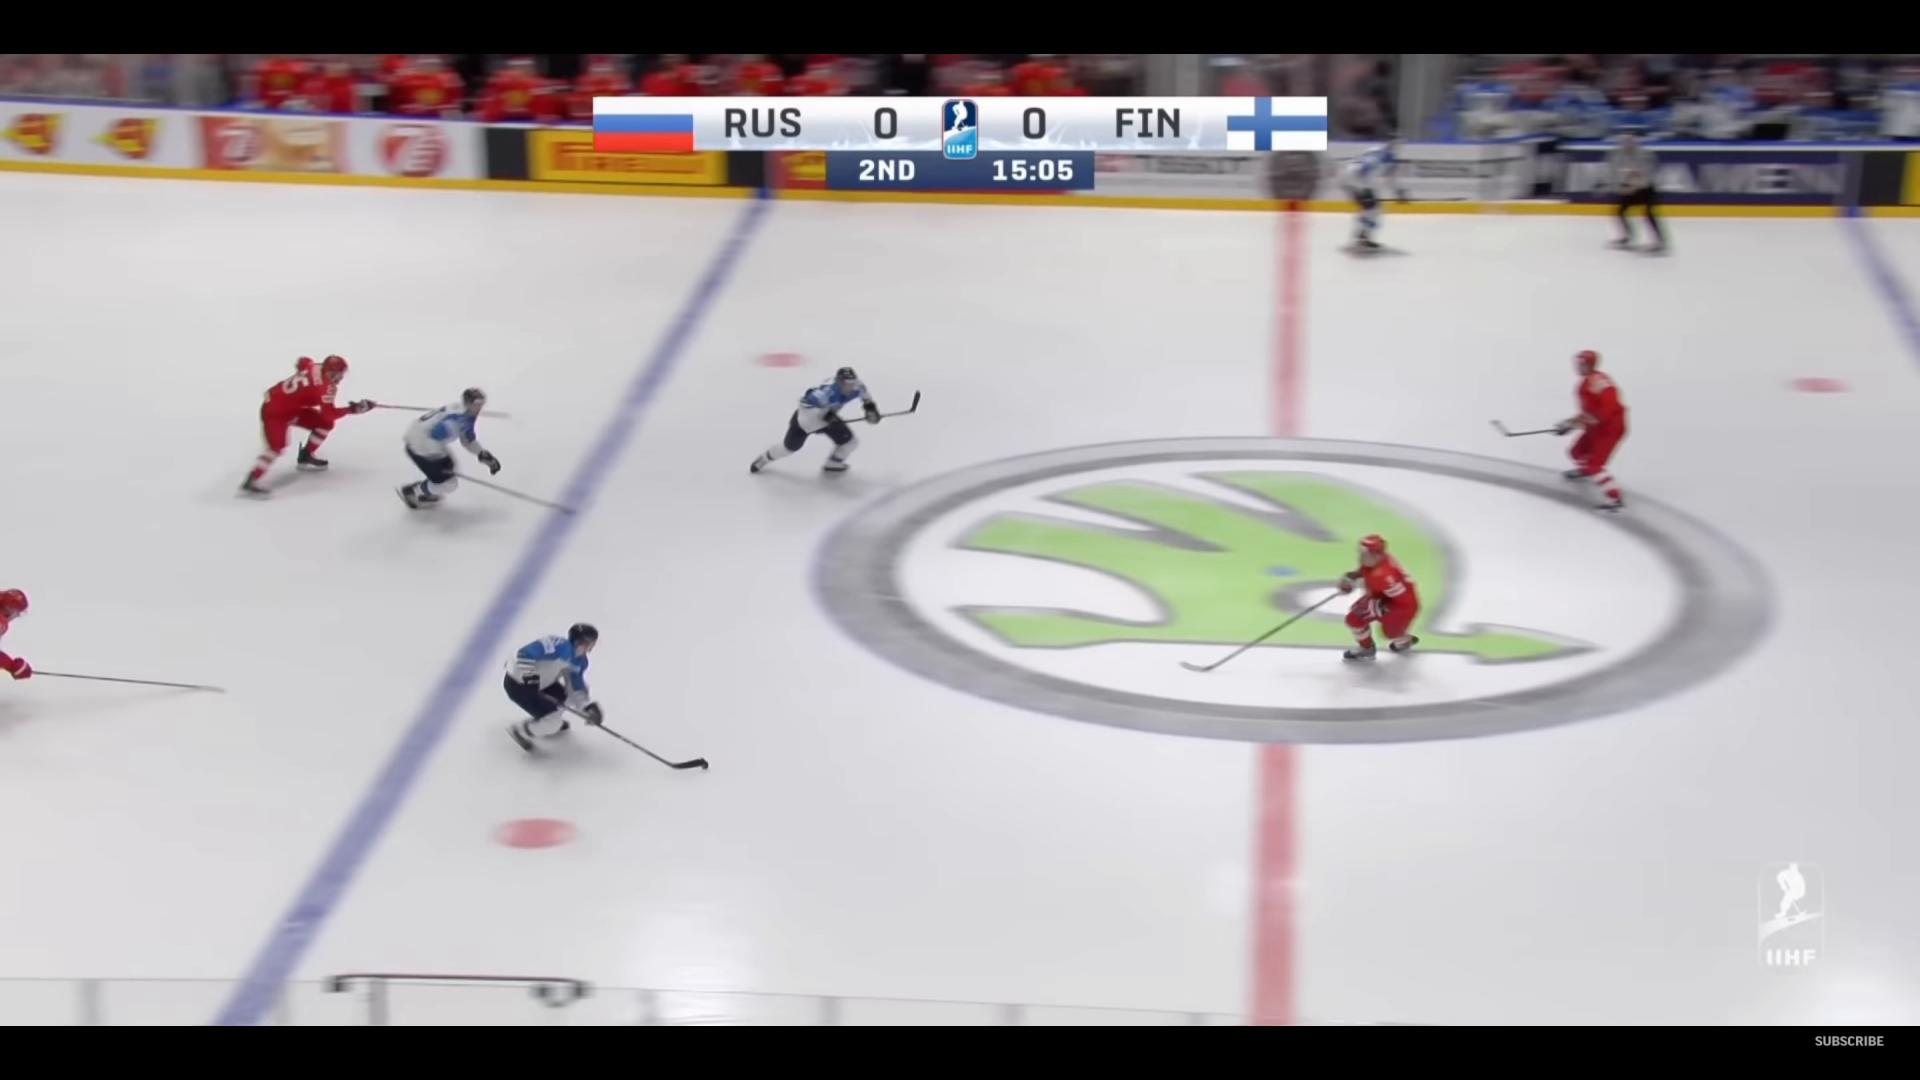puck: (700, 761, 708, 770)
